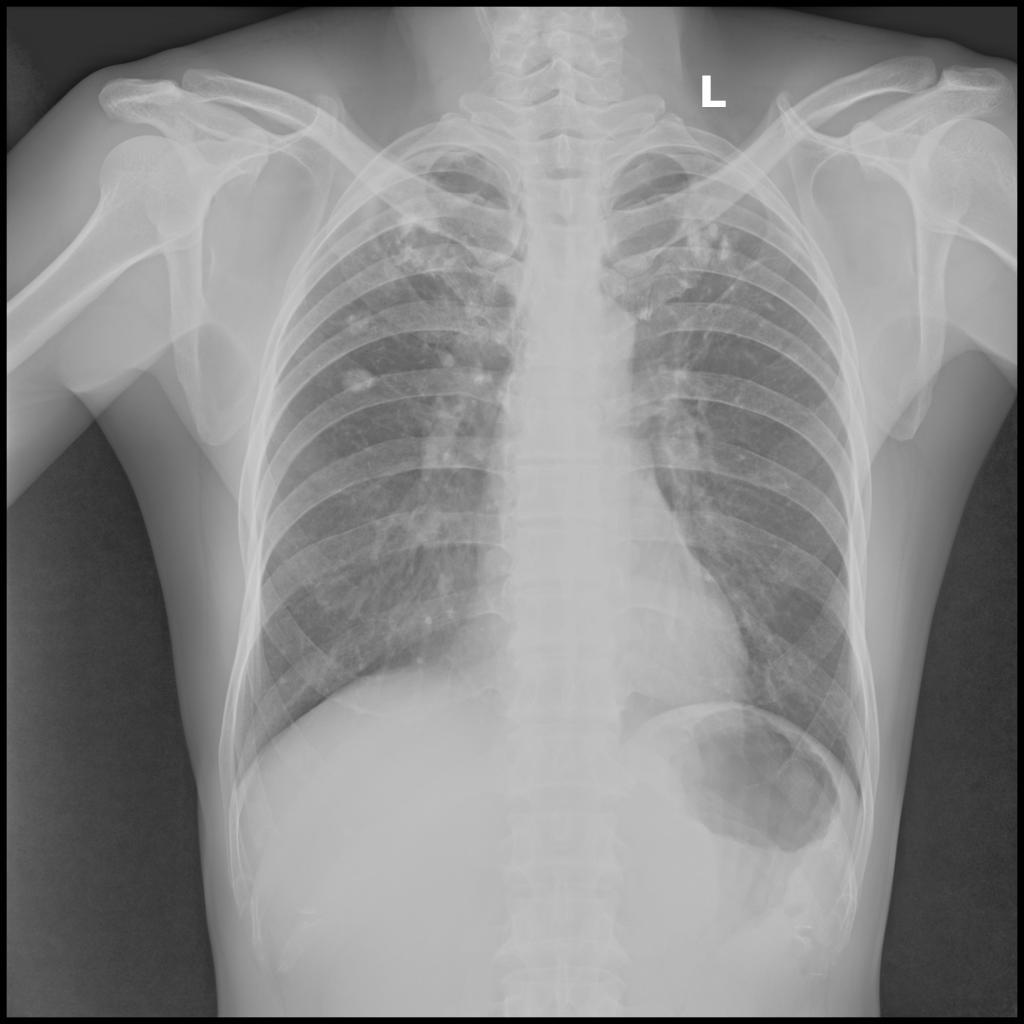Nodule: (344, 369, 373, 389)
